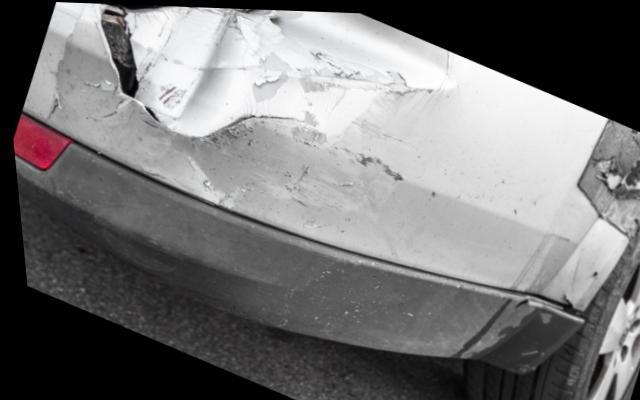crack: (98, 3, 158, 123)
dent: (176, 11, 383, 147)
rub: (566, 113, 640, 236)
scratch: (112, 112, 408, 219)
